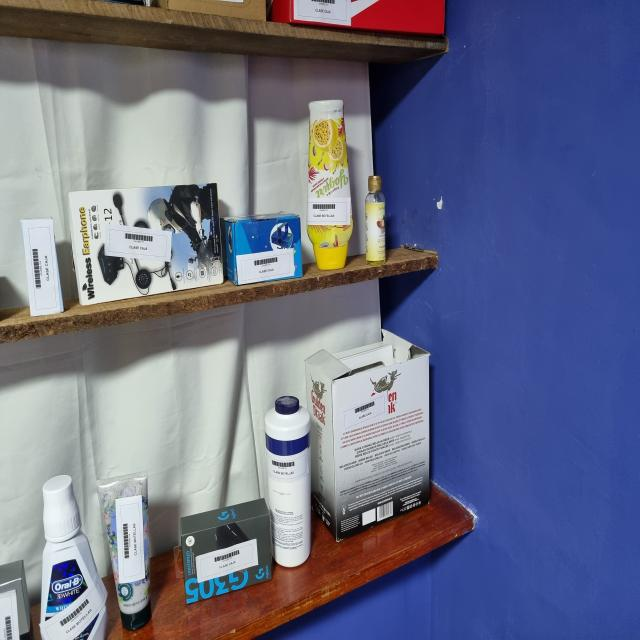botella: (40, 475, 107, 640), (97, 472, 151, 630), (265, 395, 311, 567), (307, 100, 353, 269), (365, 175, 386, 265)
caja: (306, 340, 429, 539), (69, 183, 223, 305), (181, 498, 272, 603), (270, 0, 445, 35), (224, 214, 302, 285), (20, 218, 64, 317), (157, 0, 266, 21)
